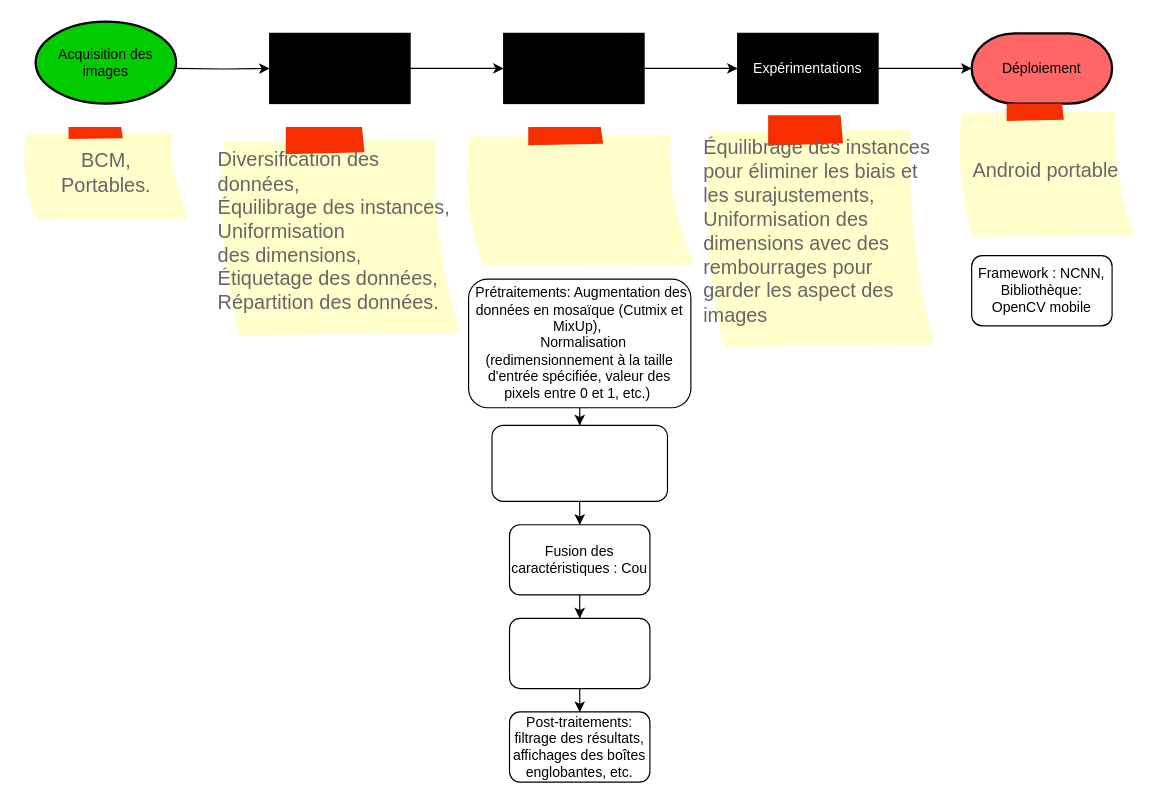
The diagram is 1156 pixels wide and 803 high, and some of its shapes have lost their labels. Here are the shapes that lost their labels. From the top down, the centre of each, then its label:
At pixel 339 68: "Pré-traitements des images".
At pixel 573 68: "Entraînements".
At pixel 579 196: "Yolov8 avec le modèle Yolov8s".
At pixel 579 462: "Extraction des caractéristiques : Backbone (CSPDarknet53)".
At pixel 579 653: "Prédictions des objets : tête".
